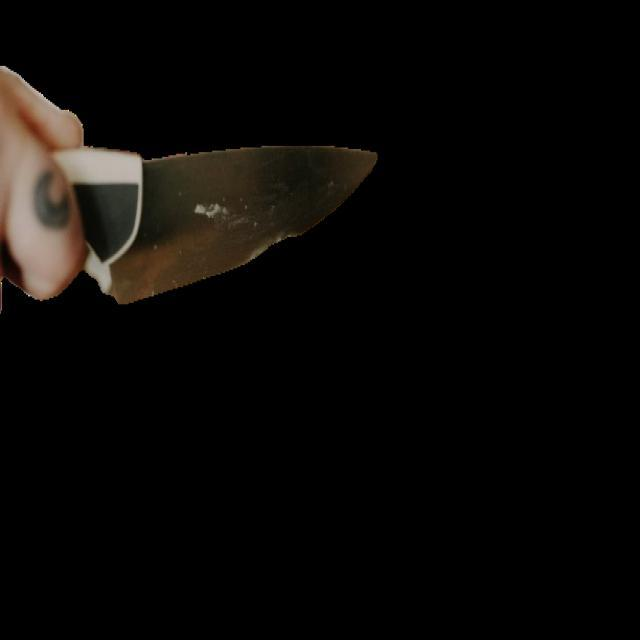knife: (2, 67, 384, 311)
